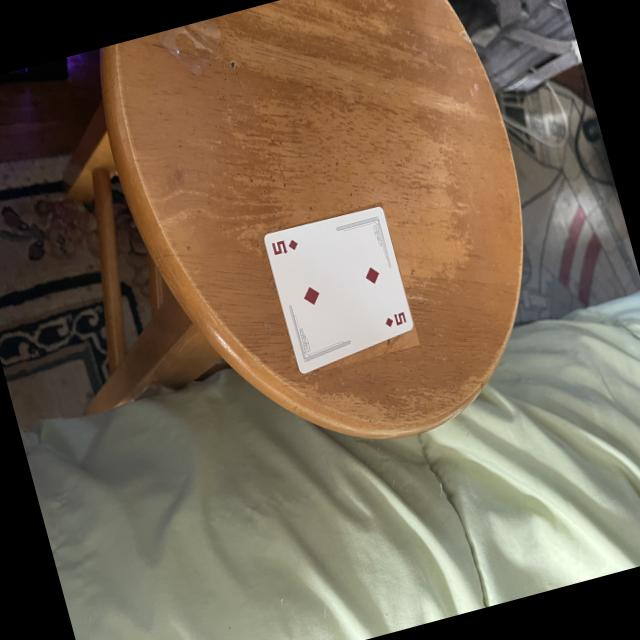2 of diamonds: (258, 208, 412, 376)
